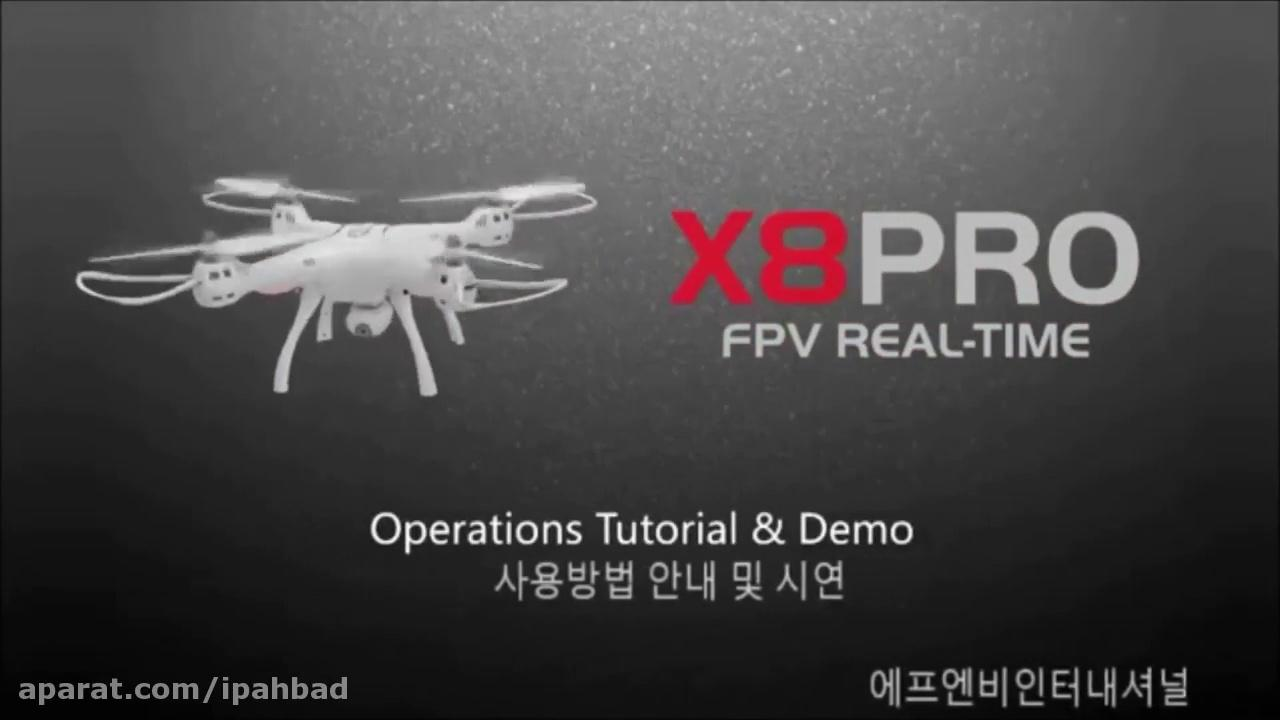drone: (74, 174, 596, 399)
